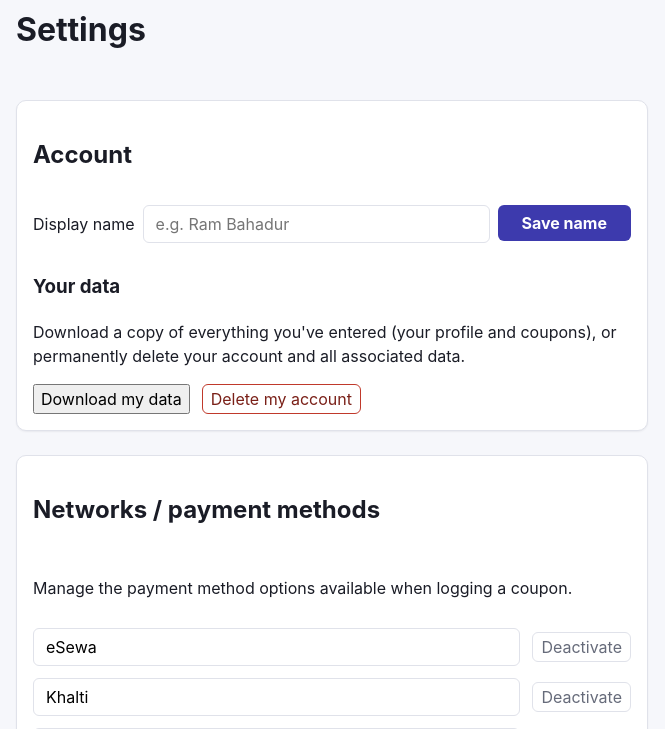
Scenario: Settings page › deactivates a network rather than deleting it
expect the 1st field showing "eSewa" is shown: met, box [33,628,520,666]
Step 1. Click the button with aria-label "deactivate esewa" → (582, 647), box [532,632,631,662]
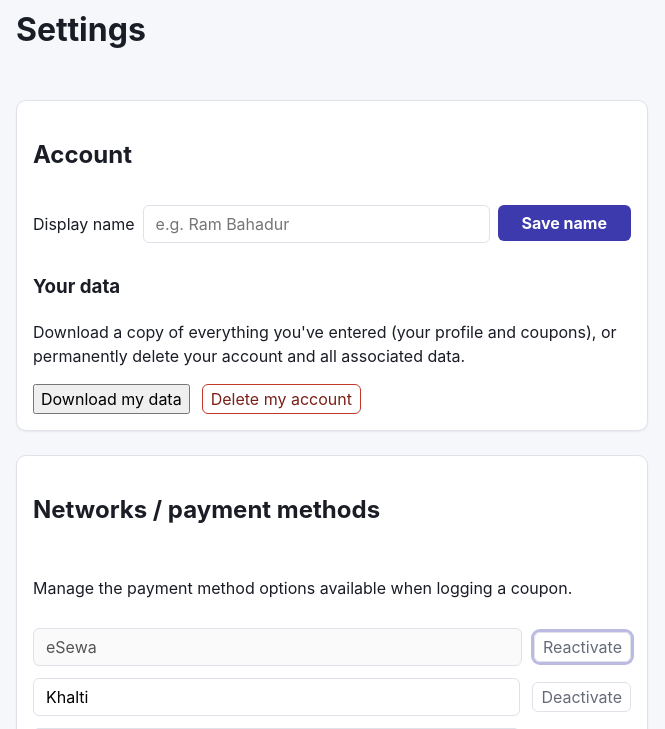
expect the button with aria-label "reactivate esewa" is shown: met, box [534,632,631,662]
expect the 1st field showing "eSewa" is disabled: met, box [33,628,522,666]
